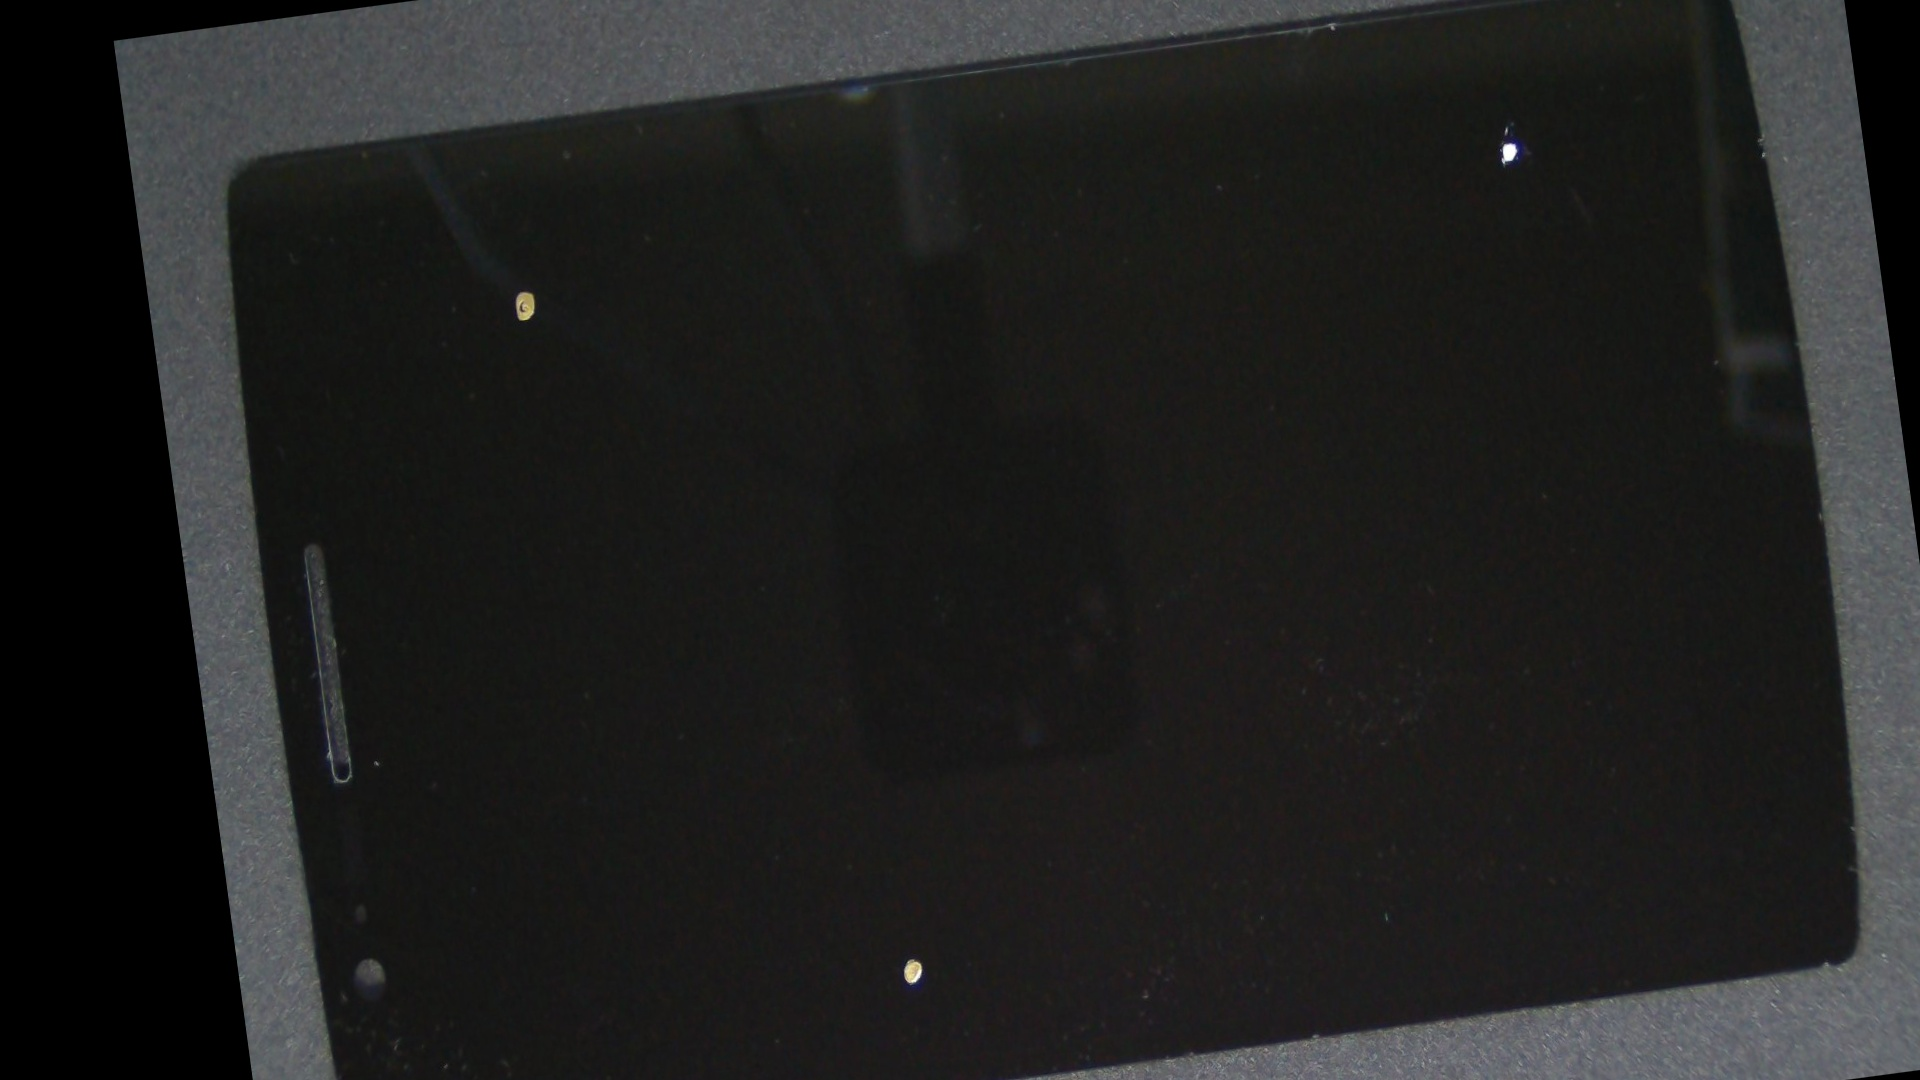oil: (512, 410, 1270, 1080), (808, 0, 1875, 372), (814, 0, 1873, 347), (318, 116, 724, 465)
